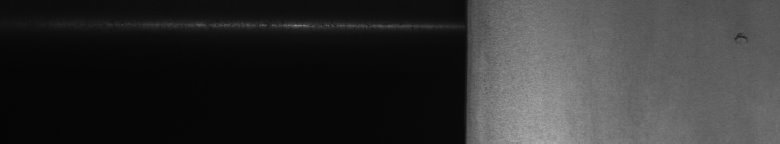fi: (734, 31, 749, 44)
